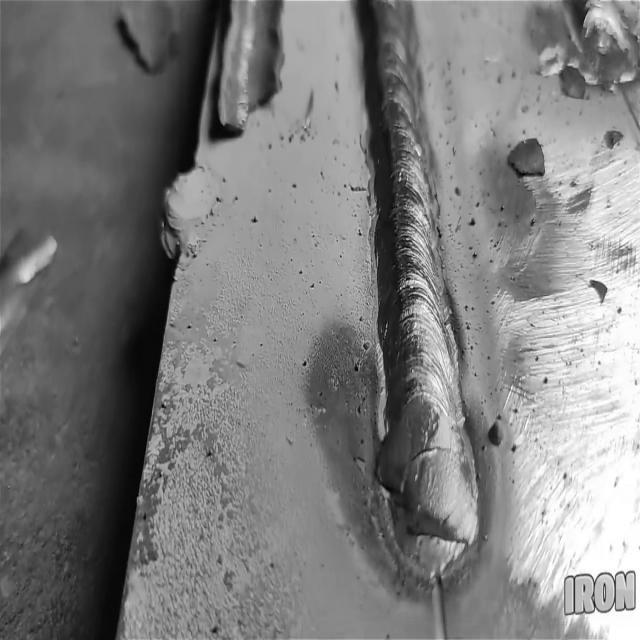Good Weld: (344, 0, 477, 416)
